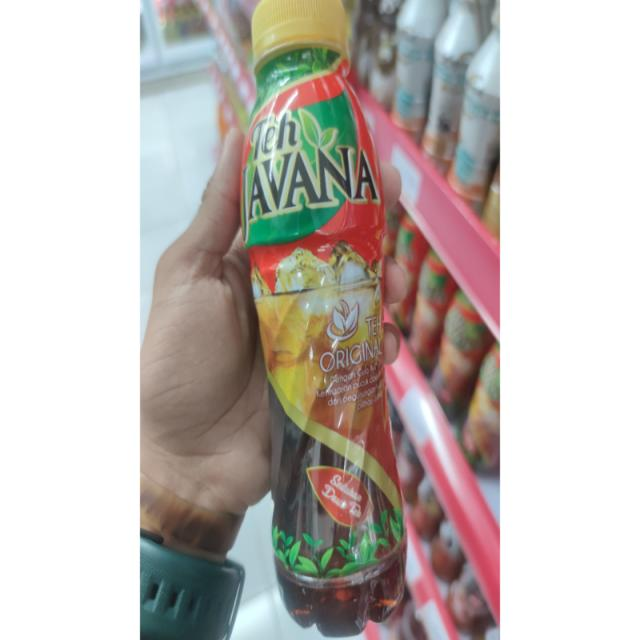botol: (227, 1, 440, 640)
